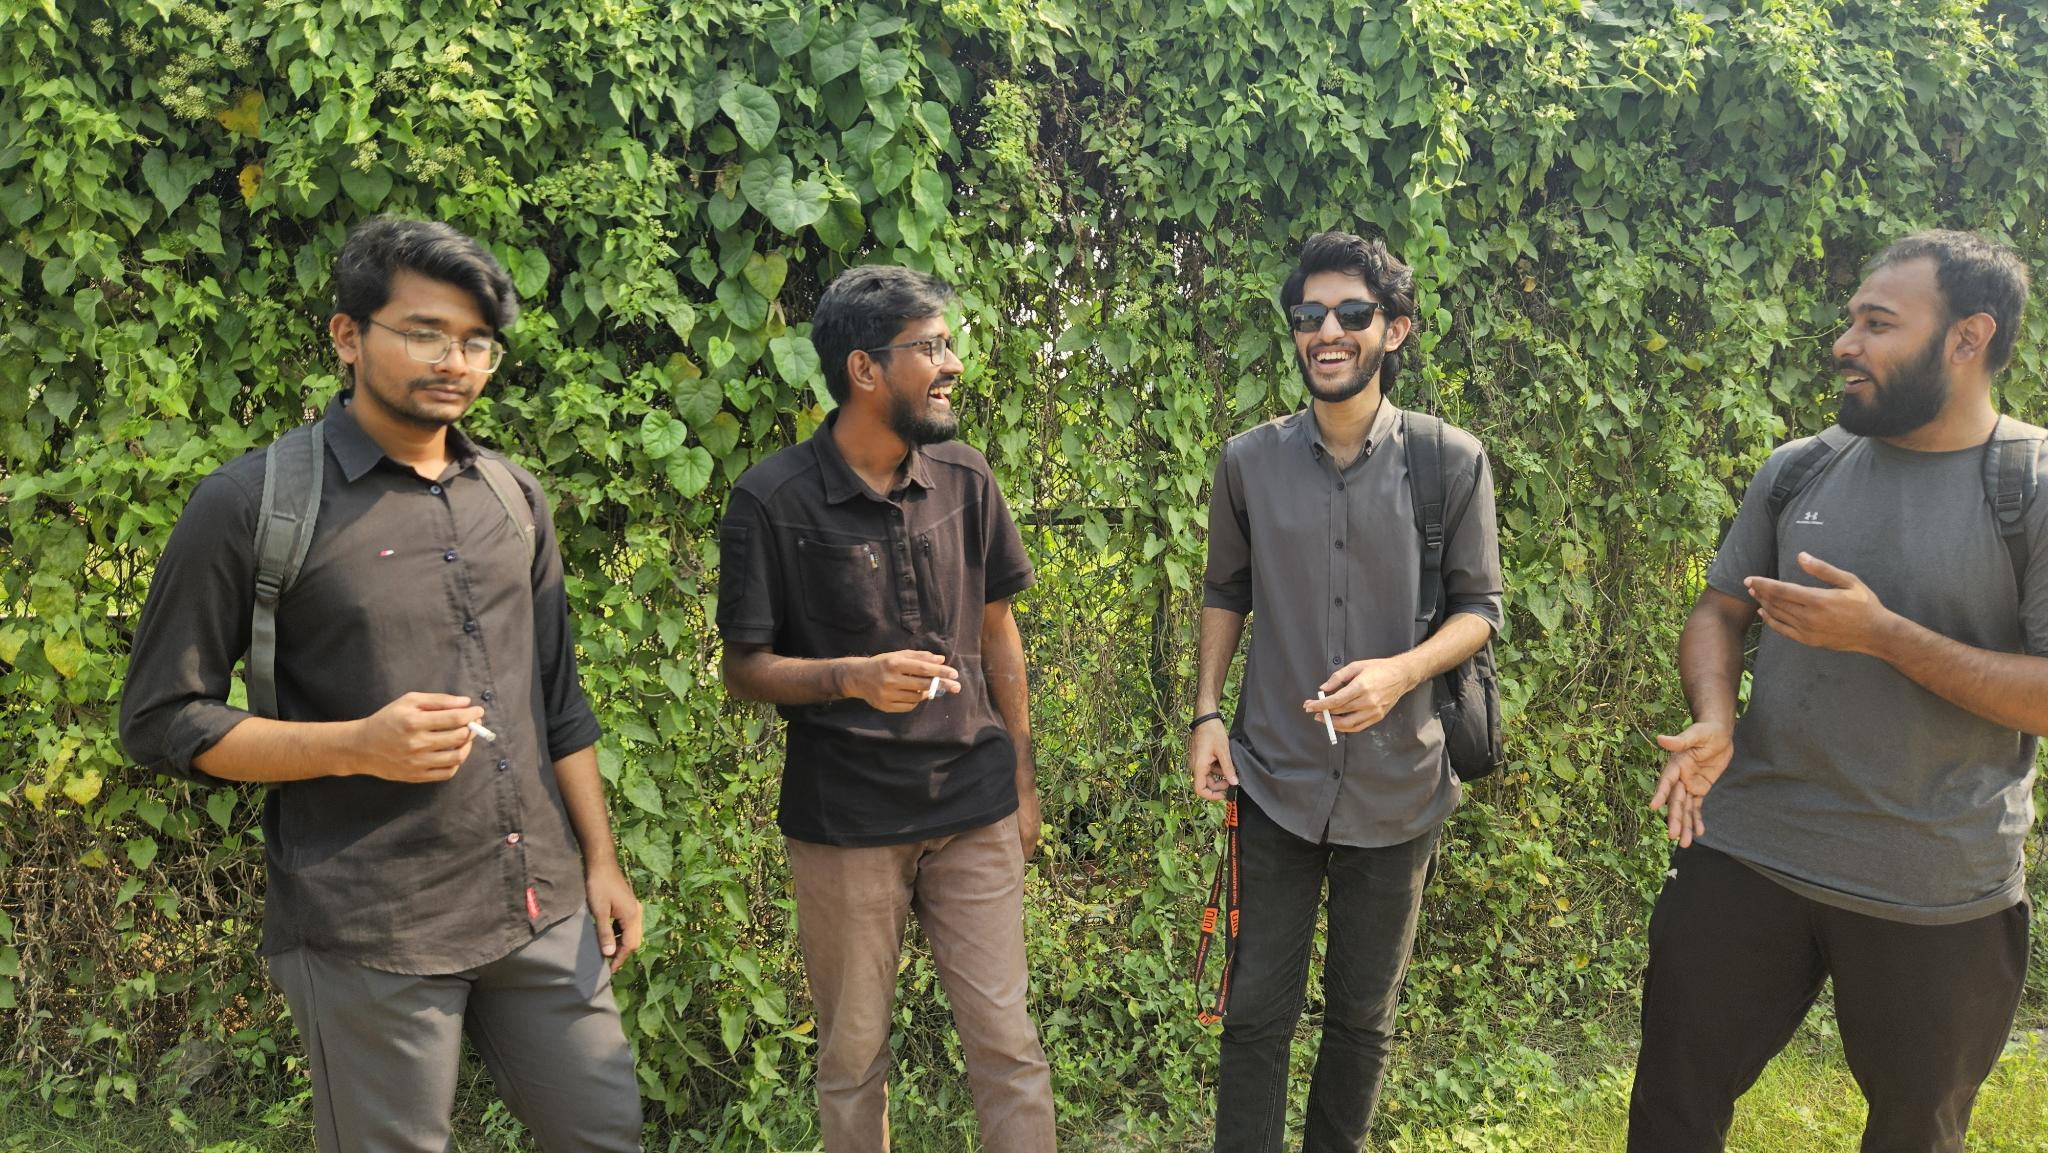cigarette: (1318, 690, 1339, 747), (466, 720, 498, 744), (927, 675, 941, 702)
nonSmoker: (1626, 231, 2048, 1153)
smoker: (117, 218, 646, 1153), (716, 264, 1058, 1153), (1189, 229, 1505, 1153)
